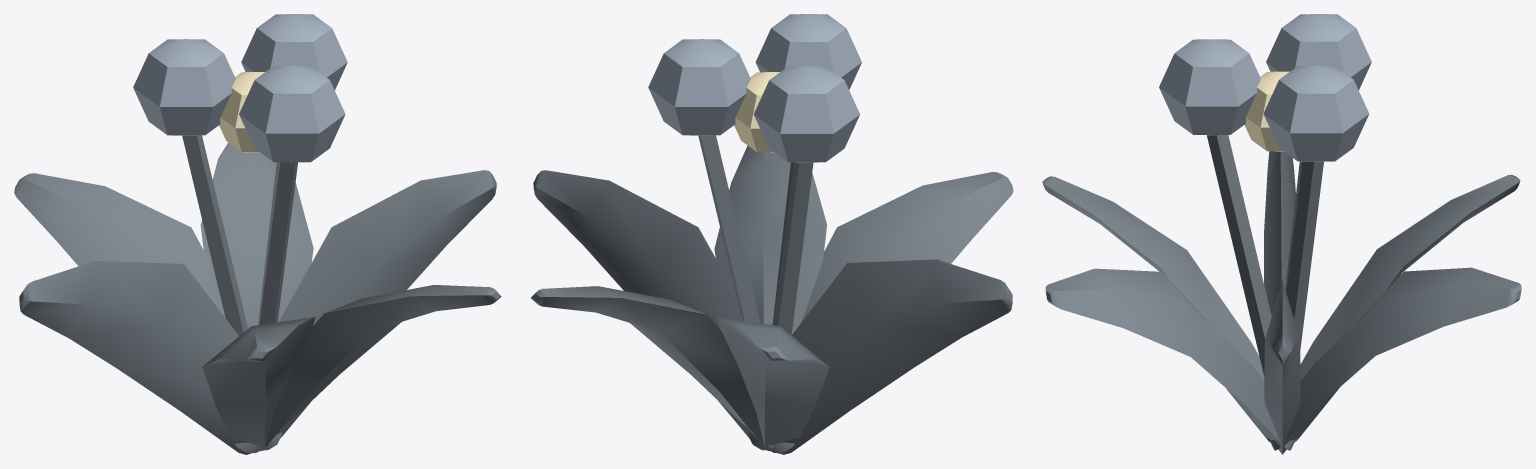
The model's file is herb_storm.gltf.
3 views of the same model, side by side, from view 1: azimuth 30°, elevation 25°; view 2: azimuth 150°, elevation 25°; view 3: azimuth 270°, elevation 25° (orthographic).
Parts seen in each view (by area): view 1: Body; view 2: Body; view 3: Body.
Boxes of the visible parts, <box> form: Body: <box>14,14,501,454</box>; Body: <box>531,14,1013,454</box>; Body: <box>1042,14,1521,454</box>.
Size of the model in its own units: 0.621 by 0.5123 by 0.5426.
